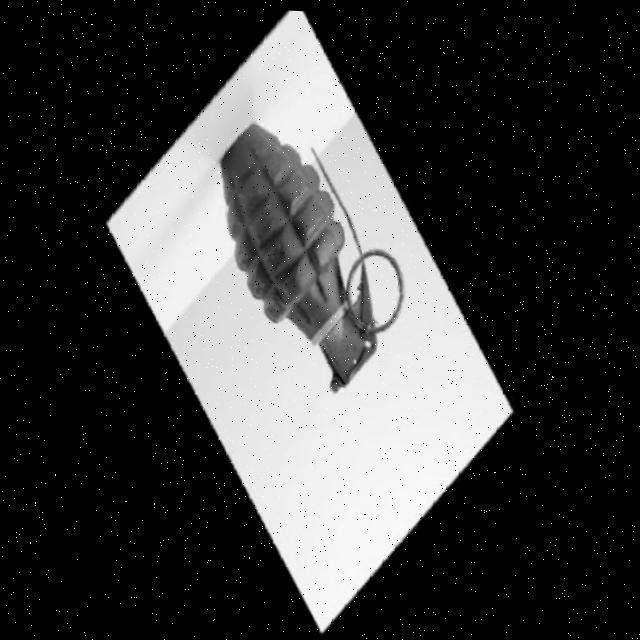grenade: (162, 94, 449, 403)
